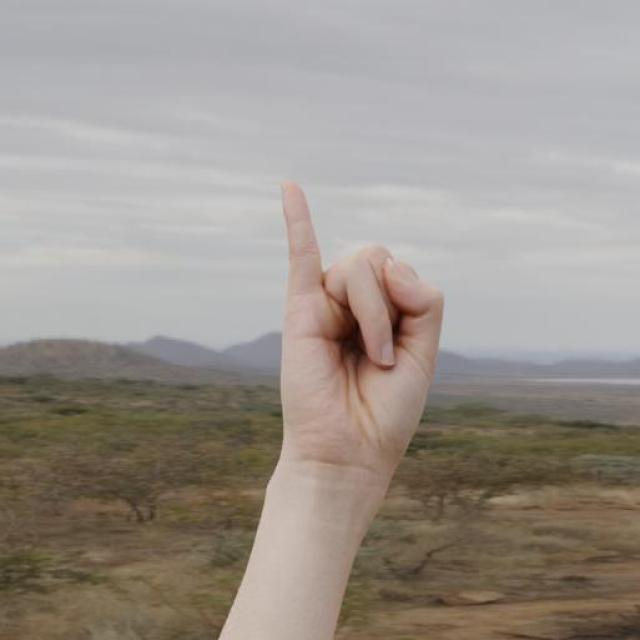I: (267, 169, 449, 483)
